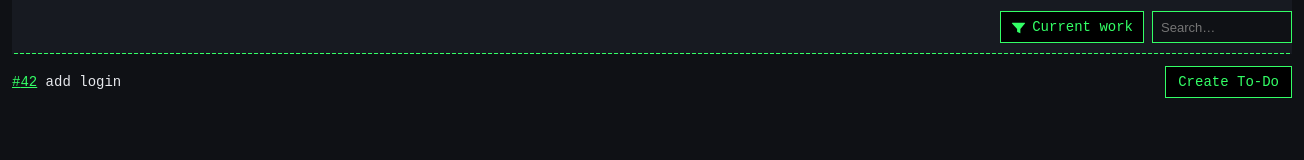
Scenario: PrPanel › drops unlinked PRs from the Current work filter
What coordinates should you click on to do the following:
click the button with aria-label "Show only PRs for current work"
I would click on:
 (1072, 27)
Its box is [1000,11,1144,43].
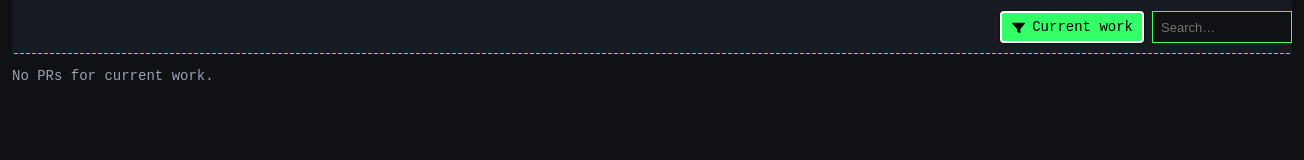
Expected: the text "No PRs for current work." is shown, [12,68,214,84]
